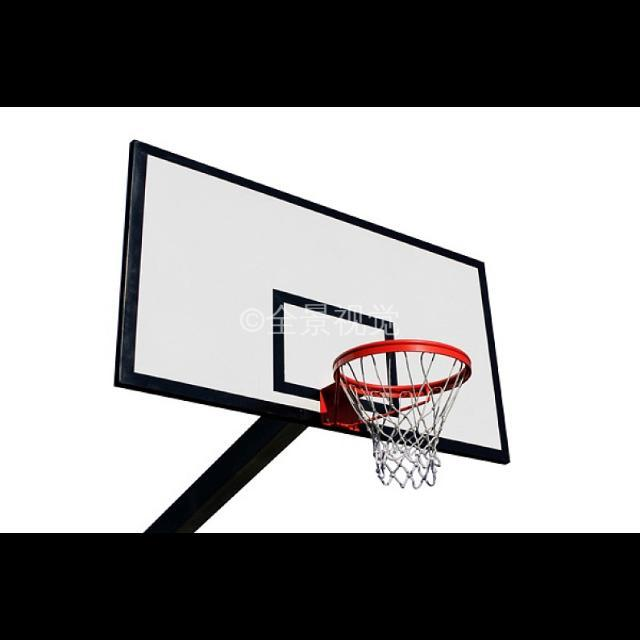rim: (334, 338, 472, 489)
